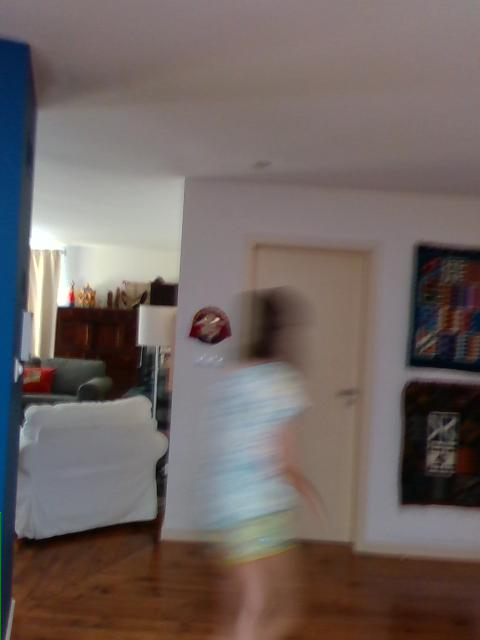door: (249, 238, 375, 550)
